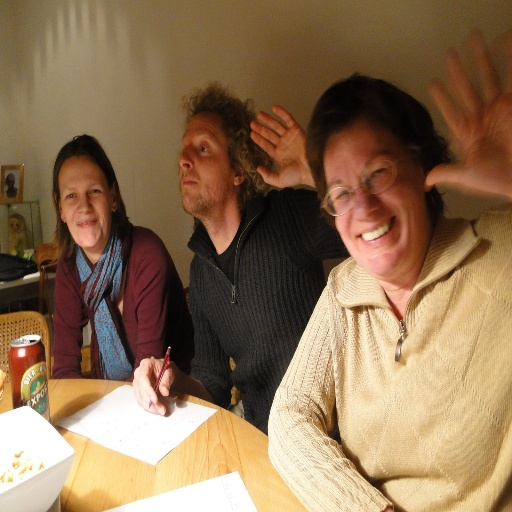hand: (424, 28, 511, 198), (248, 106, 312, 192), (125, 355, 161, 414)
